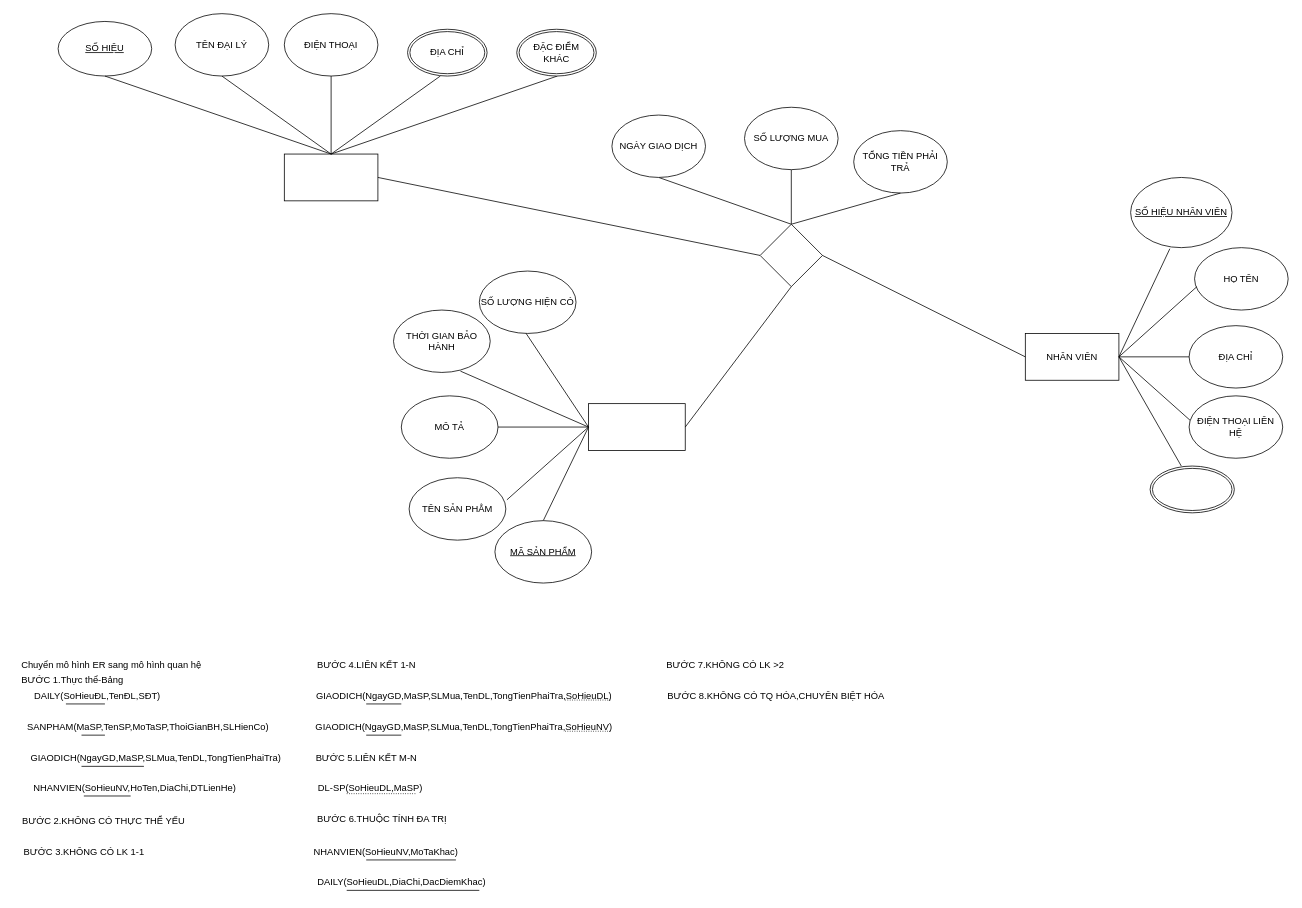
This 1302x908 diagram has some shape labels left out. The centre of each missing label's shape, as x and y in pixels:
GIAO DỊCH: pixel 791 255
MÔ TẢ KHÁC: pixel 1191 489
SẢN PHẨM: pixel 636 426
ĐẠI LÝ: pixel 331 177
